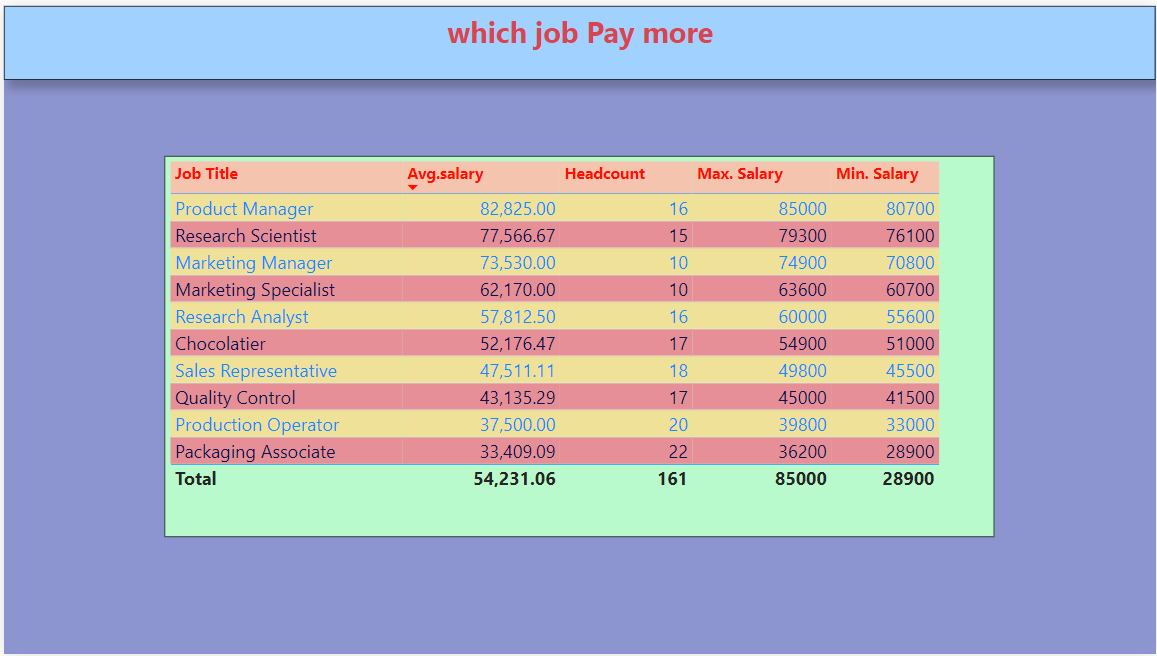

Layout of this report page (visuals, bound fields, positions):
{"tool":"powerbi","page":{"name":"Q4","canvas":[1280,720],"ordinal":3},"visuals":[{"type":"tableEx","fields":{"Values":["staff.Job Title","staff.Avg.salary","staff.Headcount","staff.Max. Salary","staff.Min. Salary"]},"box":[0,152.9,922.2,424],"z":0},{"type":"textbox","box":[0,0,1279.5,81.8],"z":1000}]}

Visuals, with their boxes in screenshot pixels (x1, y1, x2, y2), scaled from the page's 1280x720 canvas onto the 1157x656 screenshot:
tableEx - staff.Job Title x staff.Avg.salary: {"x1": 0, "y1": 139, "x2": 834, "y2": 526}
textbox: {"x1": 0, "y1": 0, "x2": 1156, "y2": 75}
